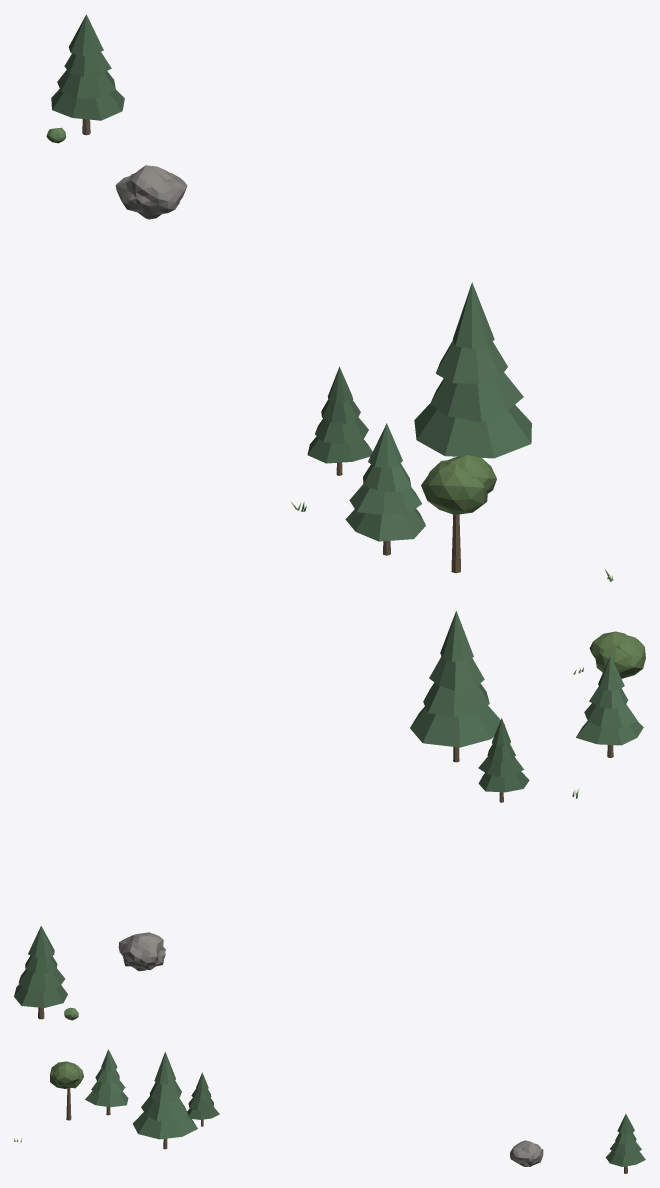
The model's file is arch_land_scatter_c22_18.glb.
The picture shows the model from 3 angles, top to bottom: view 1: azimuth 30°, elevation 25°; view 2: azimuth 150°, elevation 25°; view 3: azimuth 270°, elevation 25°; orthographic projection. The views are drawn at different scales.
Parts seen in each view (by area): view 1: arch_land_scatter_c22_18; view 2: arch_land_scatter_c22_18; view 3: arch_land_scatter_c22_18.
Boxes of the visible parts, x1,y1,x2,y2 form: arch_land_scatter_c22_18: (46, 14, 613, 581); arch_land_scatter_c22_18: (14, 611, 645, 1020); arch_land_scatter_c22_18: (14, 1049, 645, 1173).
Size of the model in its own units: 24.76 by 17.31 by 95.07.
